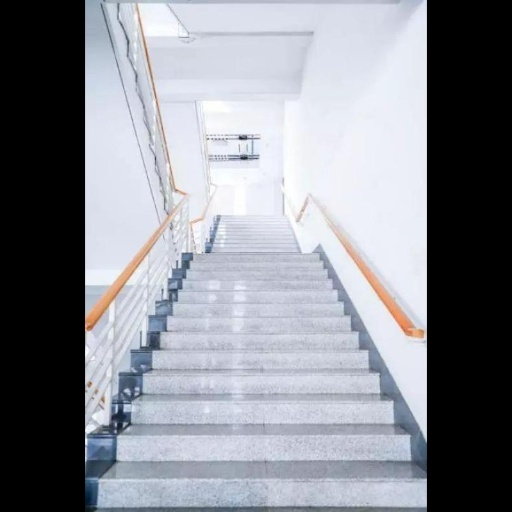Stairs: (98, 218, 426, 512)
